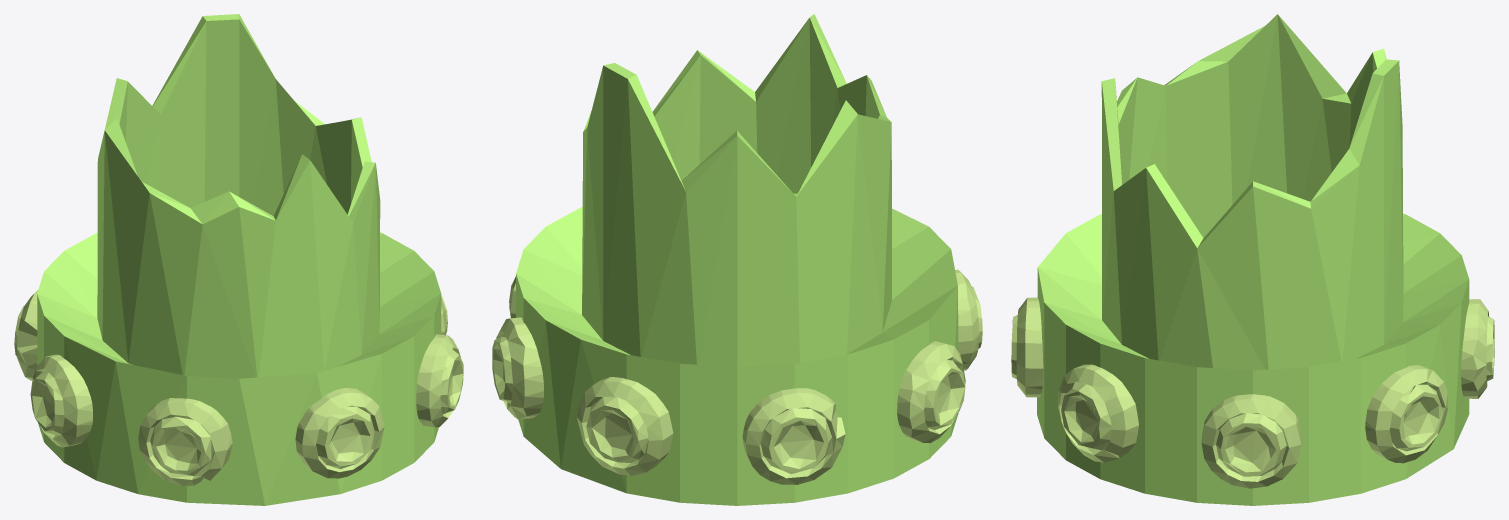
The model's file is piece_3_low.fbx.
3 views of the same model, side by side, from view 1: azimuth 30°, elevation 25°; view 2: azimuth 150°, elevation 25°; view 3: azimuth 270°, elevation 25° (orthographic). The views are drawn at different scales.
Visible parts, largest first — view 1: pTorus1; view 2: pTorus1; view 3: pTorus1.
Boxes of the visible parts, x1=… form: pTorus1: x1=14, y1=14, x2=463, y2=505; pTorus1: x1=492, y1=14, x2=982, y2=505; pTorus1: x1=1011, y1=14, x2=1494, y2=505.
Bounding box in the file's own units: 6.31 × 5.34 × 6.29.
